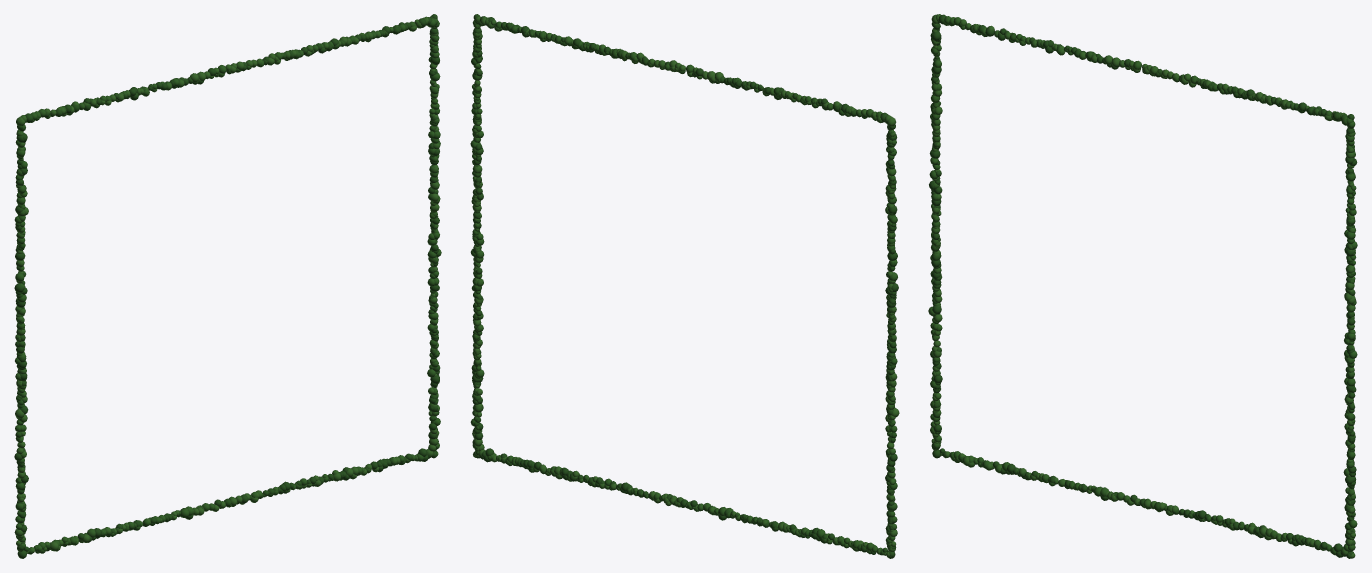
The model's file is forest_flat_hedge_core.obj.
The picture shows the model from 3 angles, left to right: view 1: azimuth 30°, elevation 25°; view 2: azimuth 150°, elevation 25°; view 3: azimuth 330°, elevation 25°; orthographic projection.
Parts seen in each view (by area): view 1: core0_0, core2_0, core1_0; view 2: core0_0, core2_0, core1_0; view 3: core0_0, core2_0, core1_0.
Part boxes in pixels (x1=…): core0_0: x1=14, y1=14, x2=440, y2=558; core2_0: x1=14, y1=16, x2=440, y2=553; core1_0: x1=14, y1=17, x2=441, y2=553; core0_0: x1=471, y1=14, x2=898, y2=558; core2_0: x1=472, y1=16, x2=899, y2=556; core1_0: x1=470, y1=17, x2=897, y2=555; core0_0: x1=929, y1=14, x2=1357, y2=558; core2_0: x1=928, y1=14, x2=1355, y2=558; core1_0: x1=929, y1=16, x2=1357, y2=555.
Bounding box in the file's own units: 62.46 × 62.51 × 1.59.
